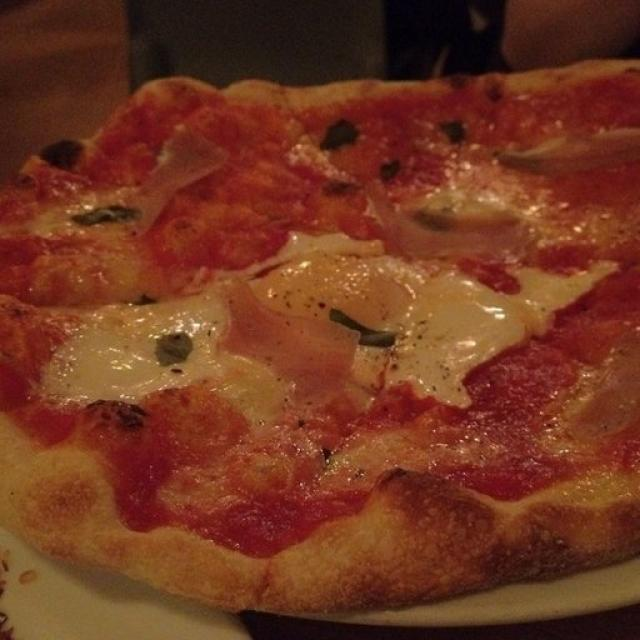Ham: (222, 286, 354, 399), (363, 194, 544, 270), (140, 130, 232, 225)
Olives: (335, 306, 398, 351), (71, 203, 144, 226), (156, 328, 191, 367), (326, 118, 359, 156), (442, 123, 471, 144)
Pizza: (0, 62, 640, 607)
